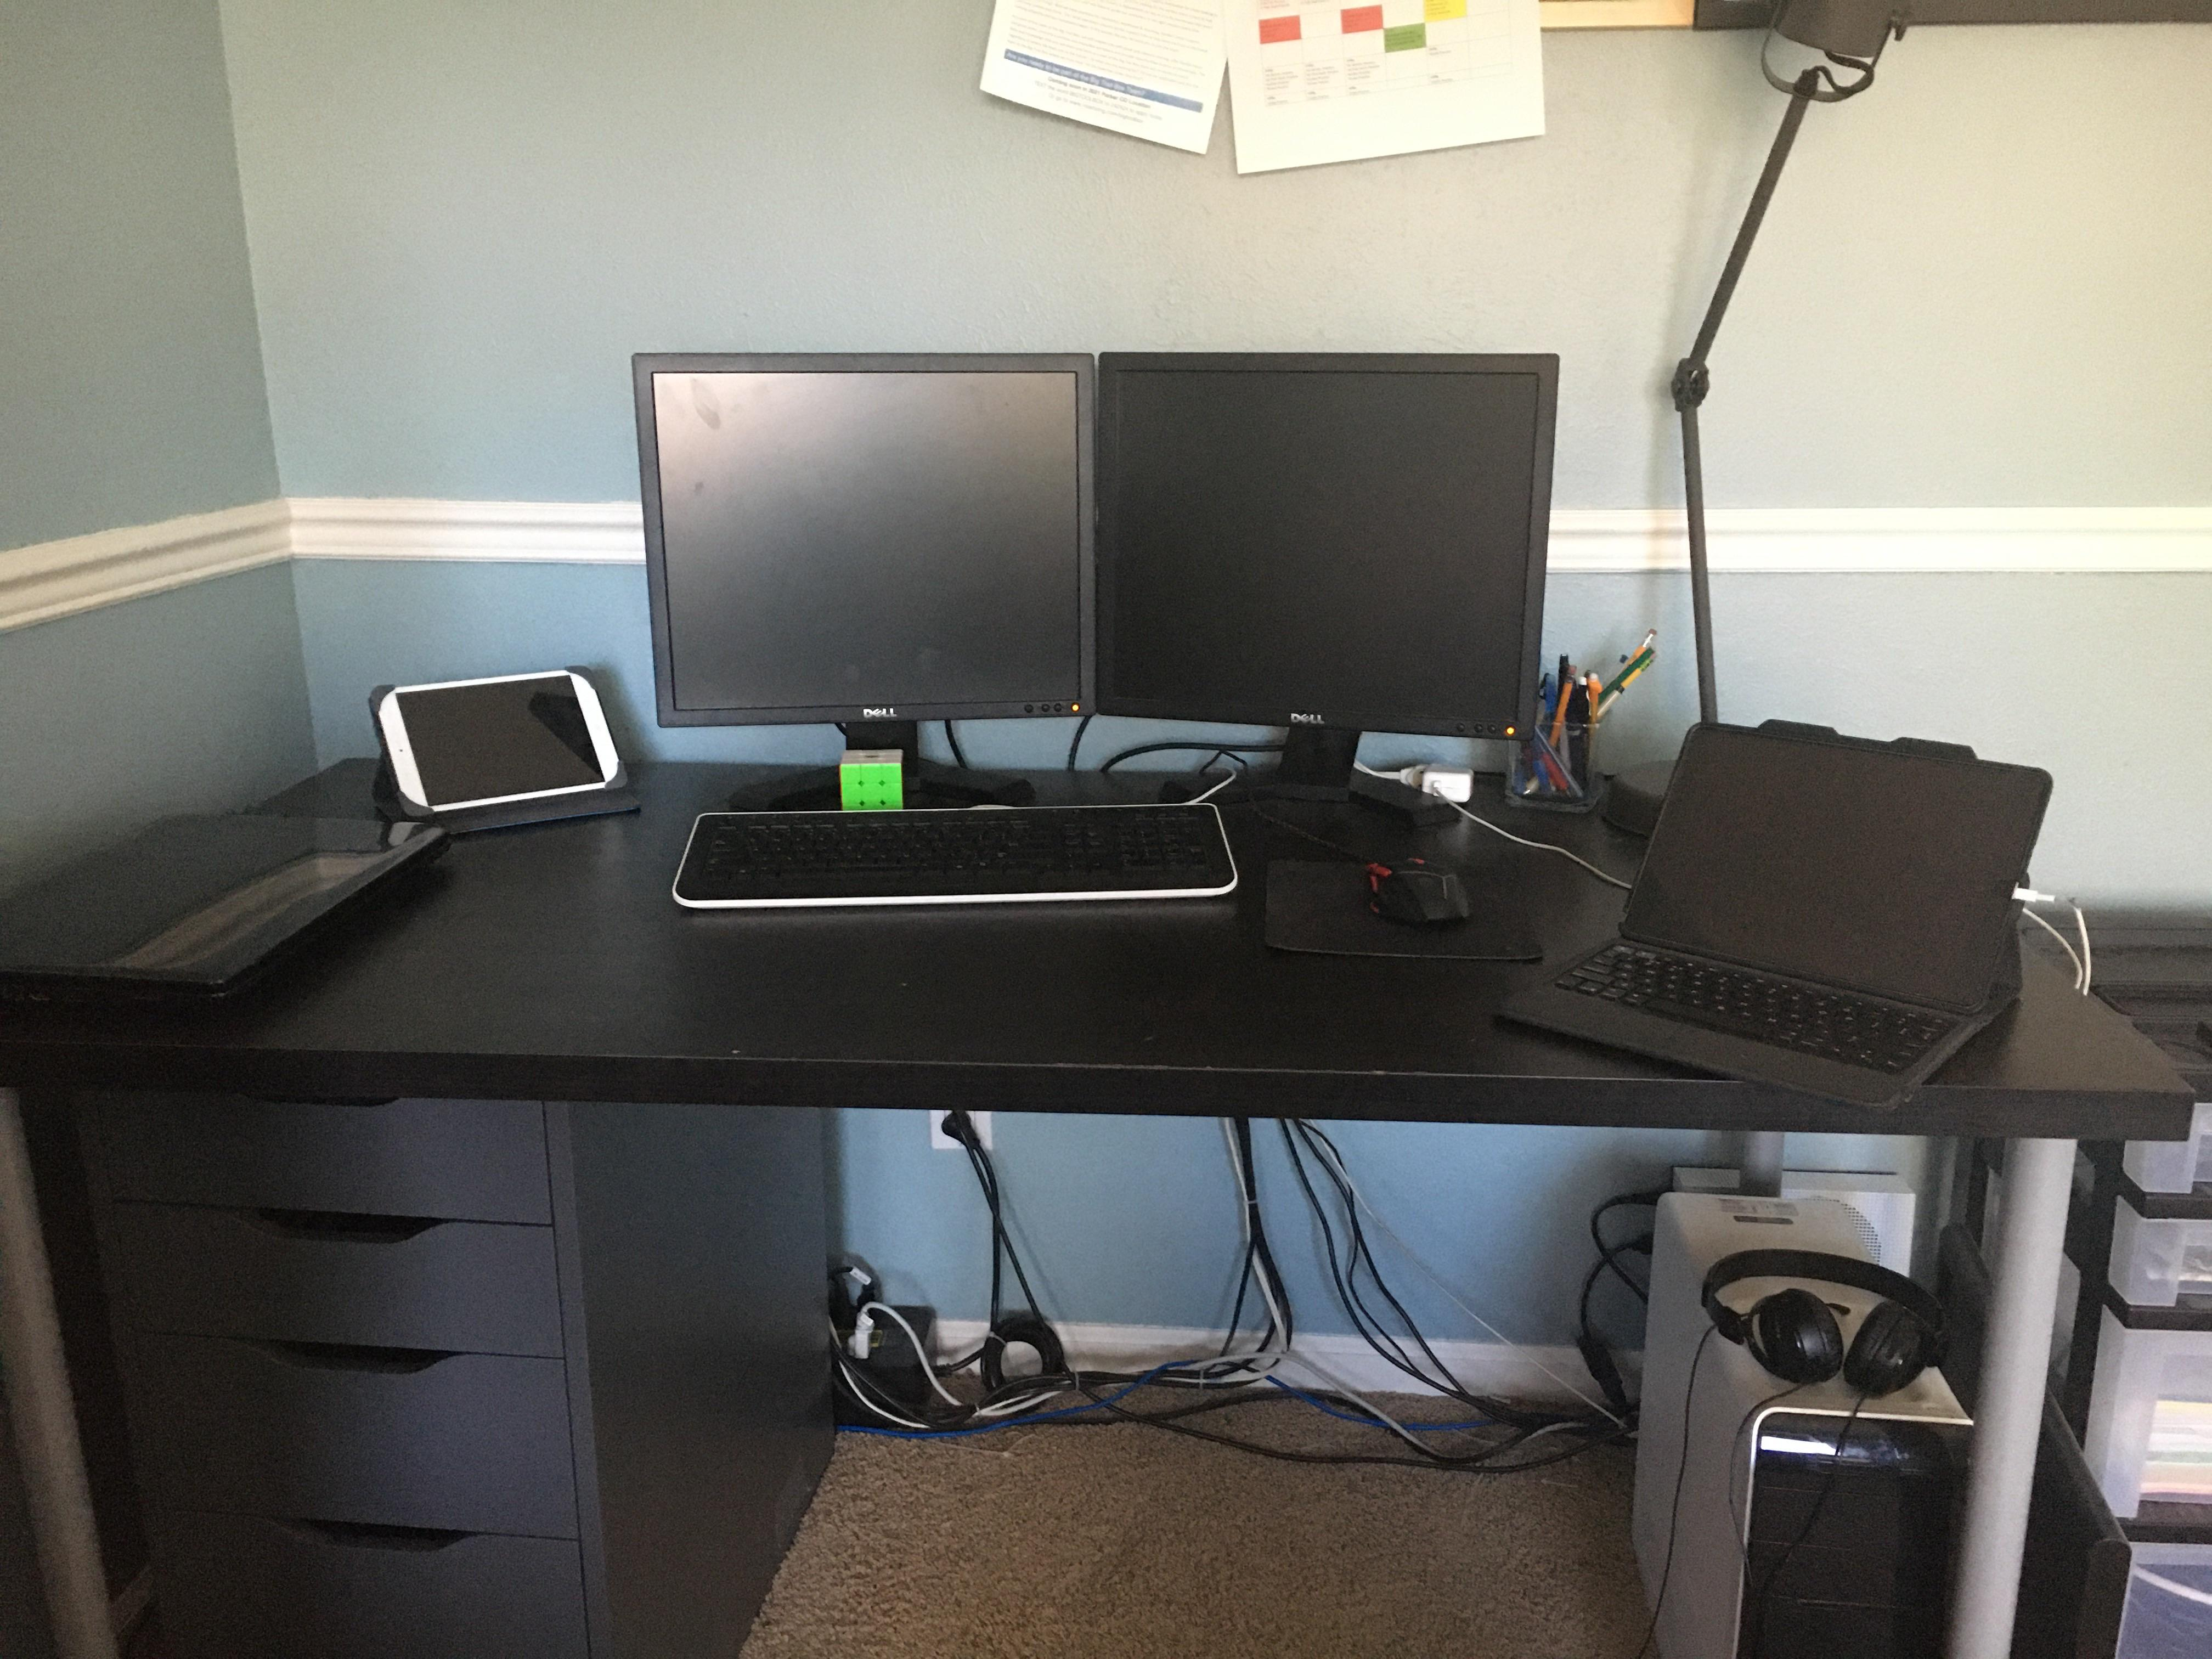Decoration (Rubric's Cube): (836, 746, 904, 810)
Desk (Generic): (0, 697, 2196, 1138)
Desktop (Generic): (1642, 1180, 1970, 1659)
Headphones: (1689, 1243, 1944, 1380)
Keyboard (Generic): (685, 805, 1235, 896)
Laptop (Windows): (0, 800, 451, 1002)
Monitor (Landscape): (632, 352, 1097, 723), (1097, 354, 1536, 737)
Mouse (Gaming): (1348, 852, 1487, 931)
Mousepad (Generic): (1254, 845, 1552, 960)
Power Strip: (827, 1263, 942, 1406)
Storage Drawer: (68, 1075, 627, 1659)
Tablet (iPad): (1609, 704, 2043, 1025), (362, 673, 648, 816)
